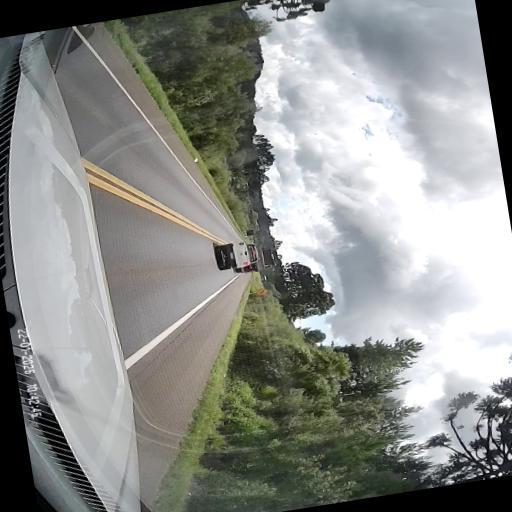A-2a: (254, 287, 268, 295)
